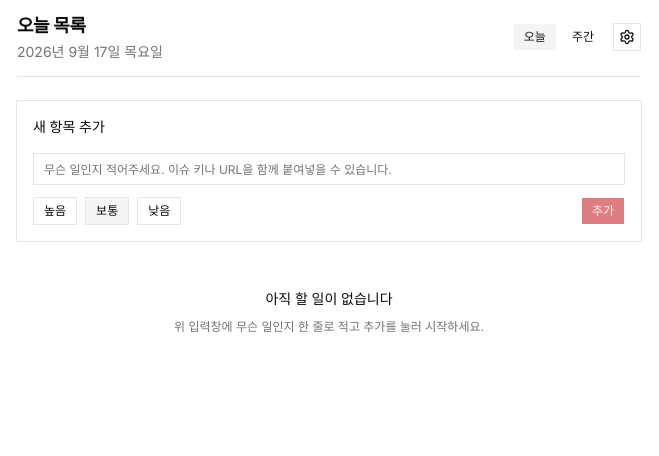
완료 표시하면 열린 항목에서 빠지고 오늘 완료 구역에 나타난다
The width and height of the screenshot is (659, 456).
In the field with placeholder "무슨 일인지 적어주세요. 이슈 키나 URL을 함께 붙여넣을 수 있습니다.": (329, 169) [33,153,625,185], type "점심 약속 잡기"
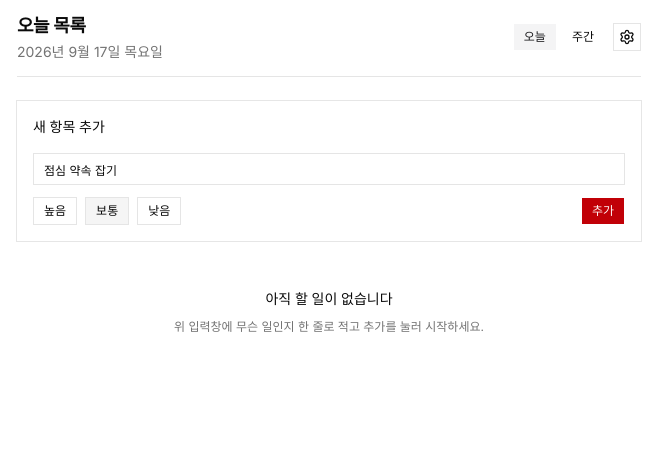
Click the button "추가": (603, 211) [581,197,625,225]
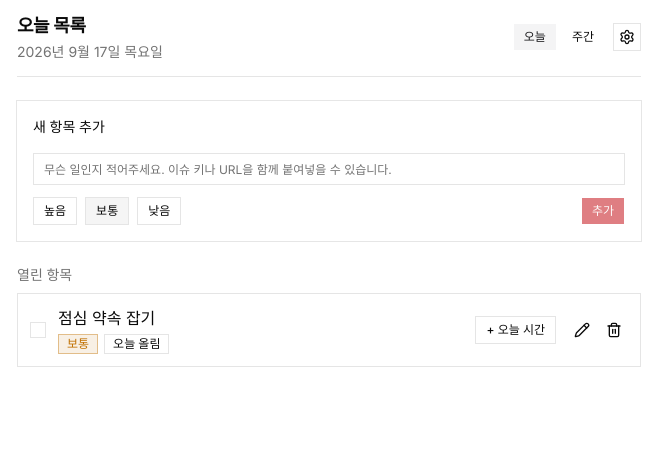
Click the checkbox named "완료 표시": (38, 330) [30,322,46,338]
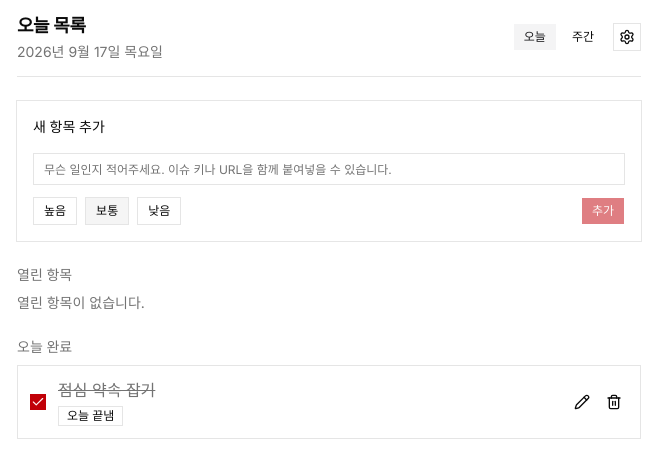
expect the heading "오늘 완료" is shown: met, box [17,338,72,355]
expect the checkbox named "완료 되돌리기" is shown: met, box [30,394,46,410]
